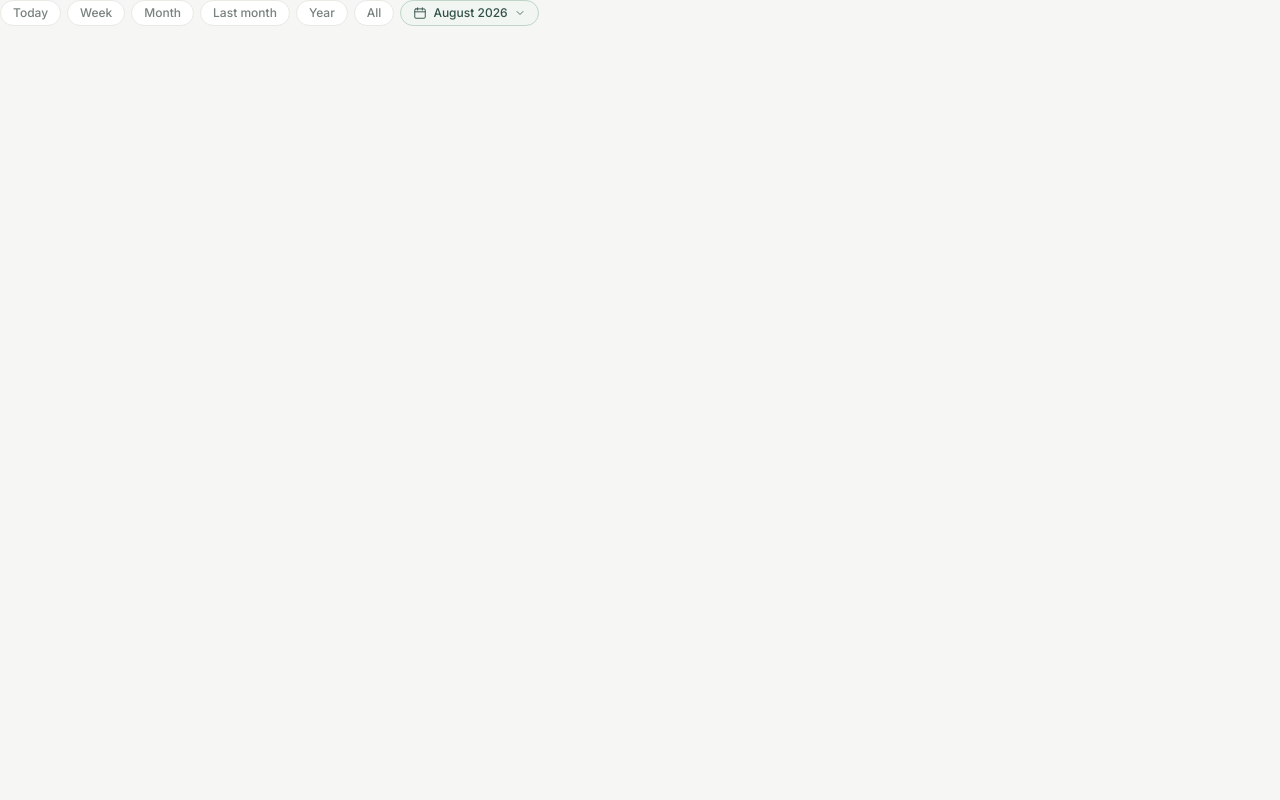
it: RangePicker › stops at 2026 and refuses months that have not happened yet
Click the button "August 2026". click: (470, 13)
box: [400,0,539,26]
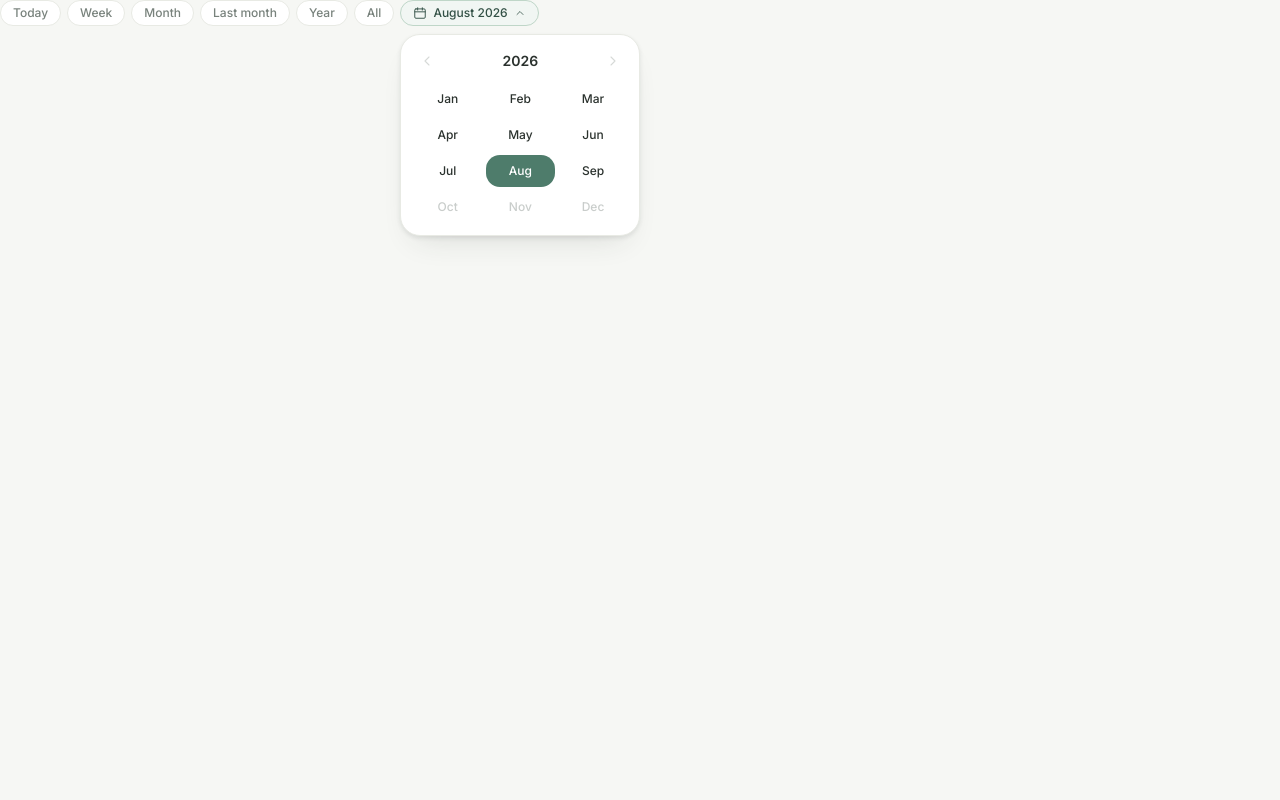
expect the text "2026" is shown: met, box [502,51,538,71]
expect the button "Dec" is disabled: met, box [559,191,627,223]
expect the button "Aug" is enabled: met, box [486,155,555,187]
